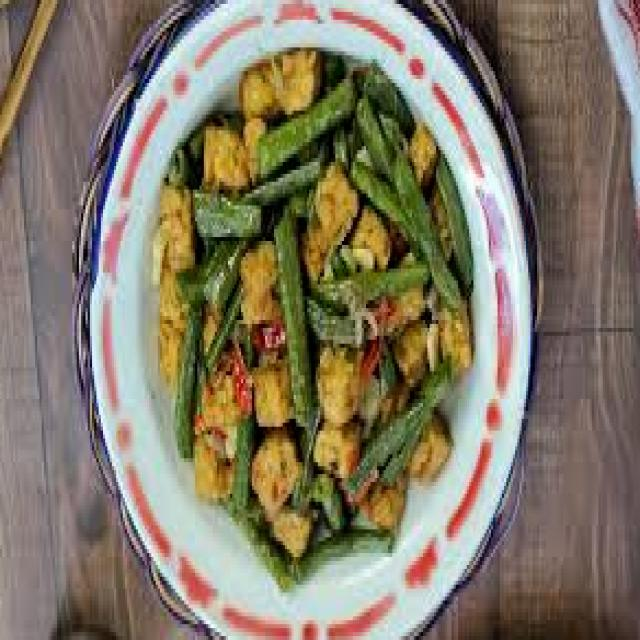kacang_panjang: (153, 57, 465, 598)
